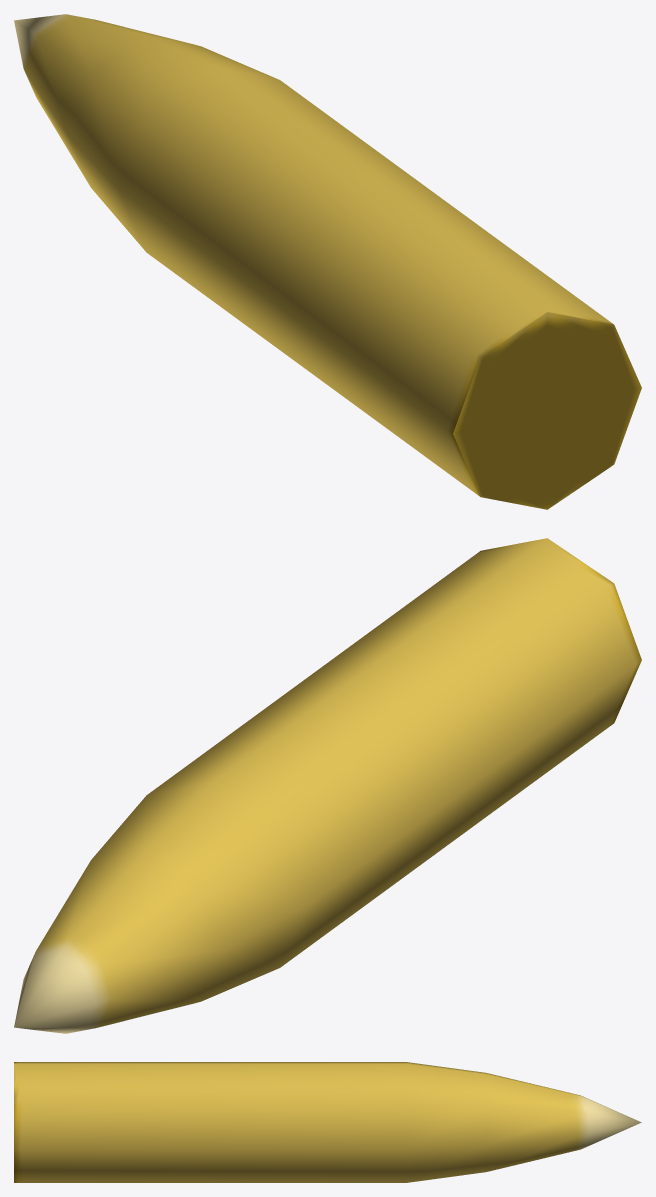
The model's file is Gattling_Bullet.fbx.
The picture shows the model from 3 angles, top to bottom: view 1: azimuth 30°, elevation 25°; view 2: azimuth 150°, elevation 25°; view 3: azimuth 270°, elevation 25°; orthographic projection. The views are drawn at different scales.
Visible parts, largest first — view 1: Bullet1; view 2: Bullet1; view 3: Bullet1.
Part boxes in pixels (left/top/right/bottom): Bullet1: left=14, top=14, right=641, bottom=509; Bullet1: left=14, top=538, right=641, bottom=1033; Bullet1: left=14, top=1062, right=641, bottom=1182.
Bounding box in the file's own units: 0.1145 × 0.1145 × 0.5595.
